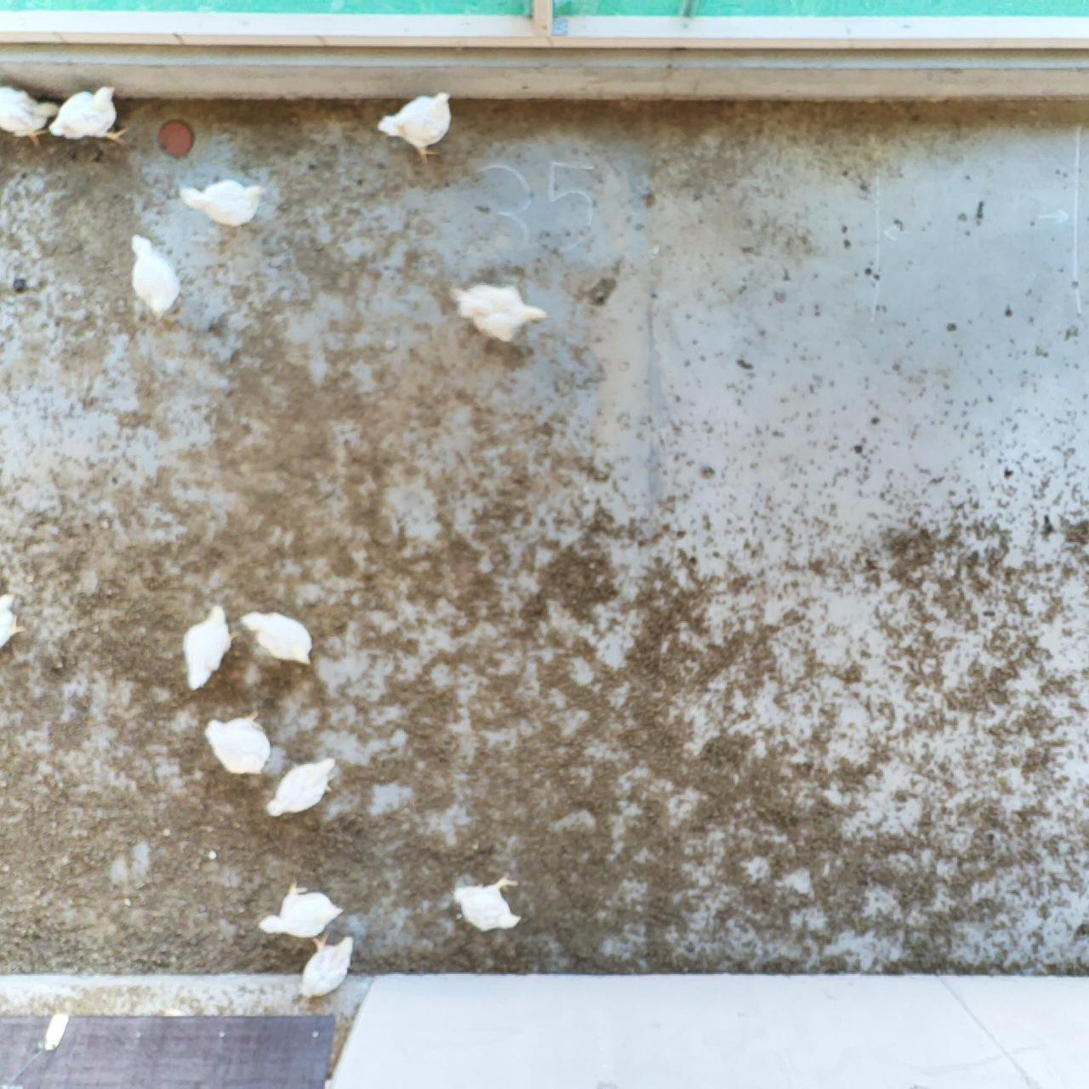chicken: (448, 279, 551, 348), (375, 87, 456, 169), (179, 600, 242, 695), (125, 230, 188, 324), (48, 84, 135, 149), (256, 878, 346, 940), (237, 606, 319, 671), (180, 177, 271, 235), (264, 754, 341, 822), (202, 708, 274, 779), (450, 871, 526, 935), (295, 929, 361, 1001), (0, 81, 62, 150), (0, 585, 26, 652)
